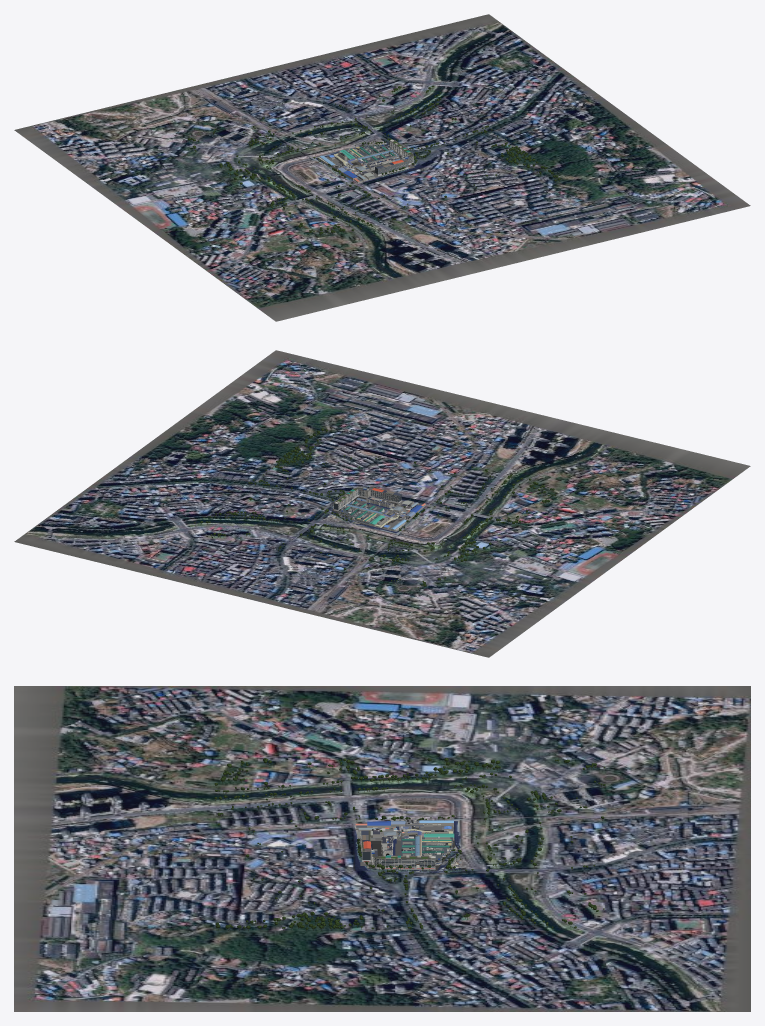
Rendered from scene_desktop_draco.glb.
3 views of the same model, one above another, from view 1: azimuth 30°, elevation 25°; view 2: azimuth 150°, elevation 25°; view 3: azimuth 270°, elevation 25° (orthographic). The views are drawn at different scales.
Parts seen in each view (by area): view 1: 90b_context_outer_z18z17, 83b_trees_outer, 90_context_satellite_ground; view 2: 90b_context_outer_z18z17, 83b_trees_outer; view 3: 90b_context_outer_z18z17, 83b_trees_outer, 90_context_satellite_ground, ST.
Part boxes in pixels (x1,y1,x2,y2): 90b_context_outer_z18z17: (14, 14, 750, 321); 83b_trees_outer: (187, 85, 560, 235); 90_context_satellite_ground: (312, 139, 424, 184); 90b_context_outer_z18z17: (14, 350, 750, 657); 83b_trees_outer: (194, 428, 556, 589); 90b_context_outer_z18z17: (14, 686, 750, 1011); 83b_trees_outer: (214, 758, 605, 930); 90_context_satellite_ground: (353, 820, 461, 873); ST: (372, 854, 435, 869).
Size of the model in its own units: 1665 by 27.45 by 1590.
Materials: 211 (3 with a texture image).
